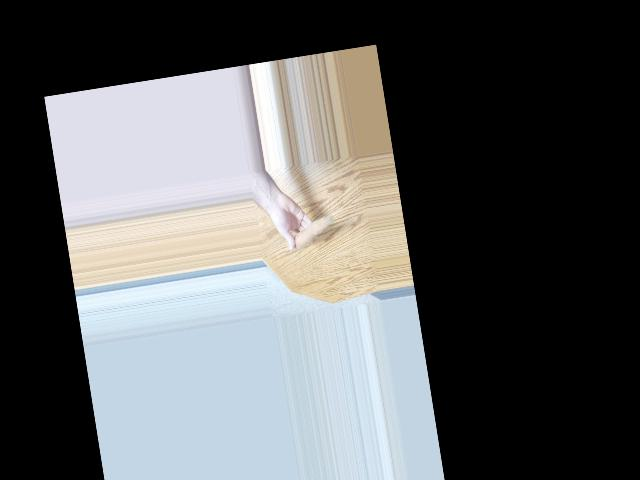sweet_potato: (281, 210, 338, 252)
